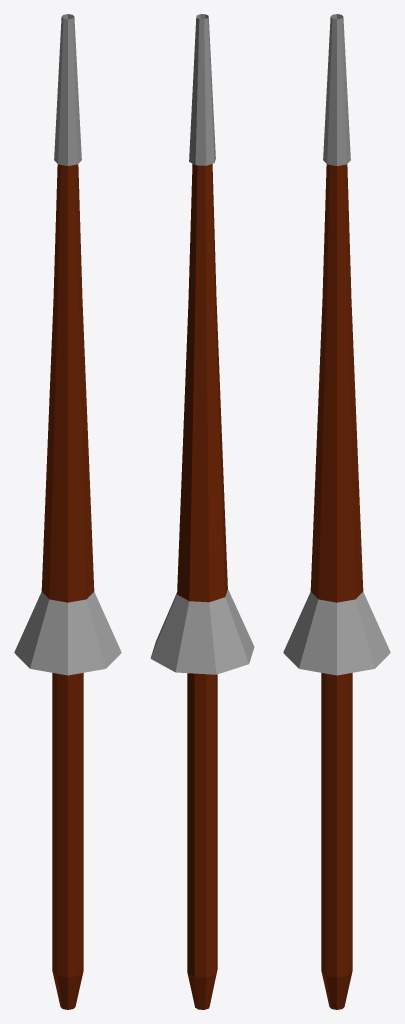
File: Lanza.fbx
3 renders of one model, left to right at view 1: azimuth 90°, elevation 25°; view 2: azimuth 150°, elevation 25°; view 3: azimuth 270°, elevation 25°, orthographic.
Visible parts, largest first — view 1: Lanza; view 2: Lanza; view 3: Lanza.
Boxes of the visible parts, left/top/right/bottom form: Lanza: left=14, top=14, right=121, bottom=1009; Lanza: left=150, top=14, right=254, bottom=1009; Lanza: left=283, top=14, right=390, bottom=1009.
Bounding box in the file's own units: 17.26 × 175 × 17.26.
